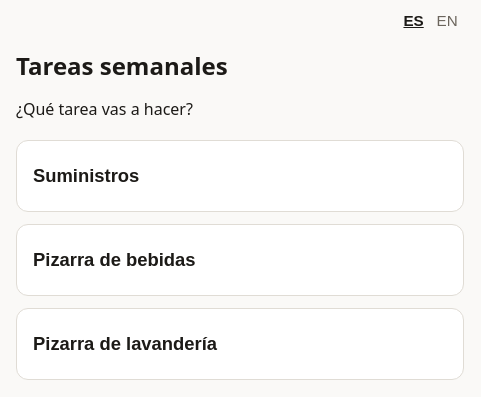
Test: App task routing › starts on the three-task home and opens Supplies
expect the heading "Tareas semanales" is shown: met, box [16, 49, 228, 82]
What coordinates should you click on to do the following:
click the button "Suministros"
I would click on:
 (86, 176)
Its box is [16, 140, 464, 212].
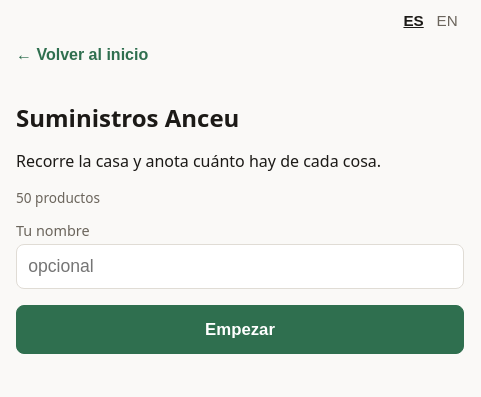
expect the text "Recorre la casa y anota cuánto hay de cada cosa." is shown: met, box [16, 150, 381, 172]
